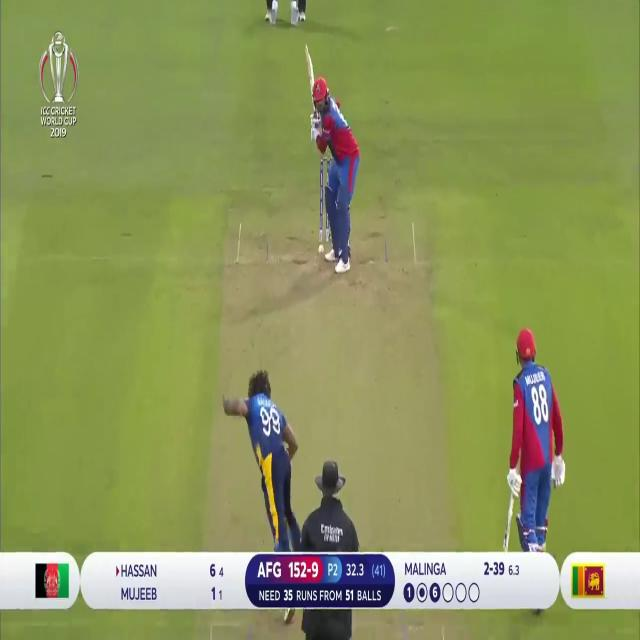ball: (314, 239, 326, 259)
